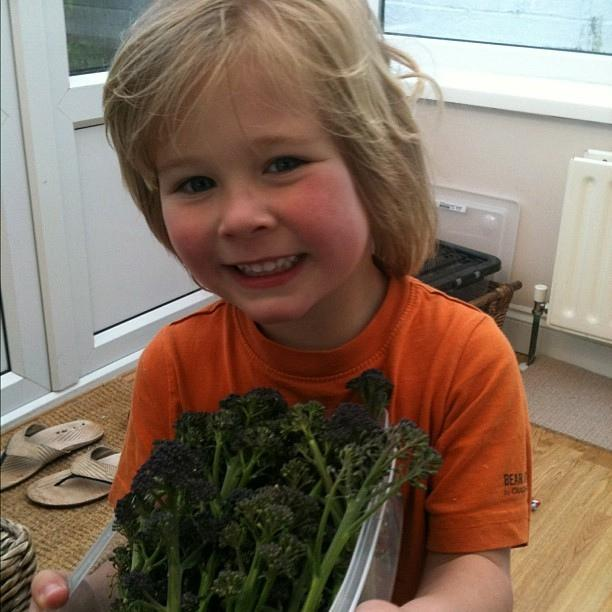broccoli: (300, 417, 444, 612), (132, 438, 230, 612), (233, 484, 321, 610), (254, 542, 298, 612), (218, 388, 288, 430), (345, 368, 394, 423), (118, 496, 146, 576), (220, 424, 244, 502), (130, 532, 168, 576), (210, 570, 248, 612), (174, 411, 210, 448), (323, 422, 350, 456)
